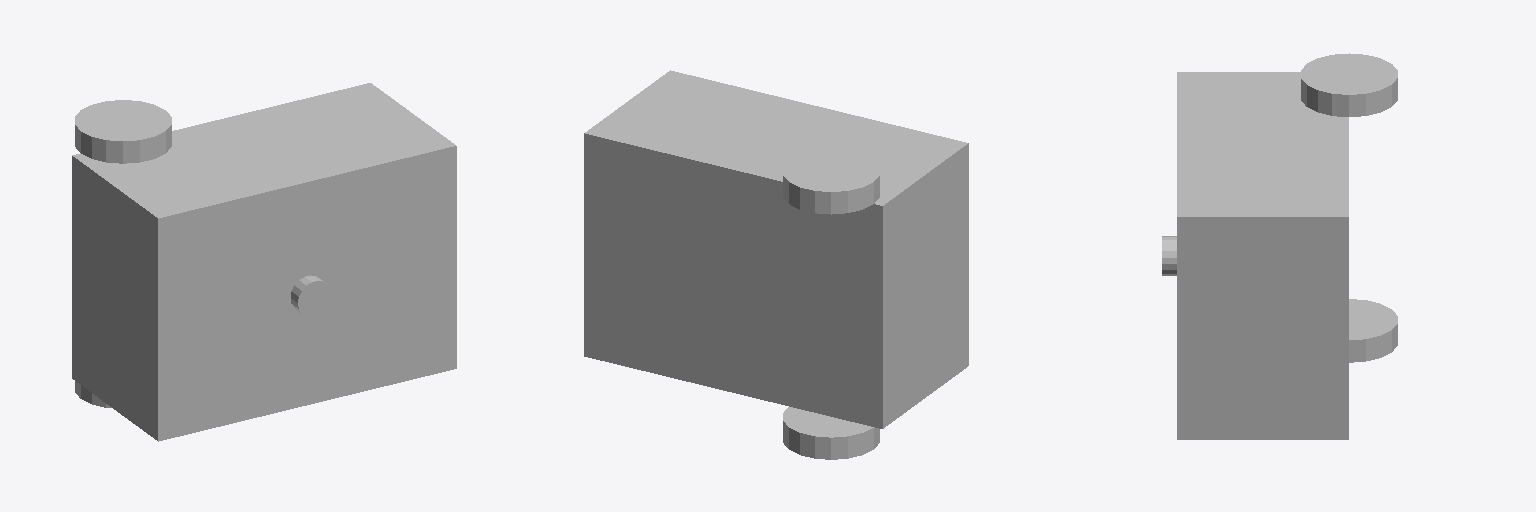
File: platypous-Platy-partPlataypus.obj
3 views of the same model, side by side, from view 1: azimuth 30°, elevation 25°; view 2: azimuth 150°, elevation 25°; view 3: azimuth 270°, elevation 25° (orthographic).
Visible parts, largest first — view 1: Body; view 2: Body; view 3: Body.
Boxes of the visible parts, x1=… form: Body: x1=72, y1=83, x2=456, y2=441; Body: x1=584, y1=70, x2=968, y2=459; Body: x1=1162, y1=53, x2=1397, y2=439.
Bounding box in the file's own units: 700 × 600 × 478.